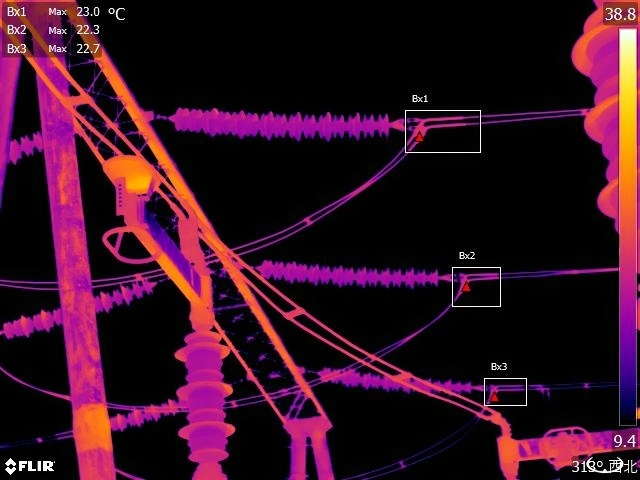clamp: (410, 112, 436, 141), (457, 271, 474, 294), (486, 381, 500, 396)
insulator: (168, 99, 395, 149), (1, 273, 167, 341), (254, 252, 445, 294), (315, 365, 481, 403), (108, 397, 184, 434), (6, 128, 45, 167)
post insulator: (172, 321, 240, 479)
switch: (97, 149, 225, 330), (492, 416, 640, 476)
